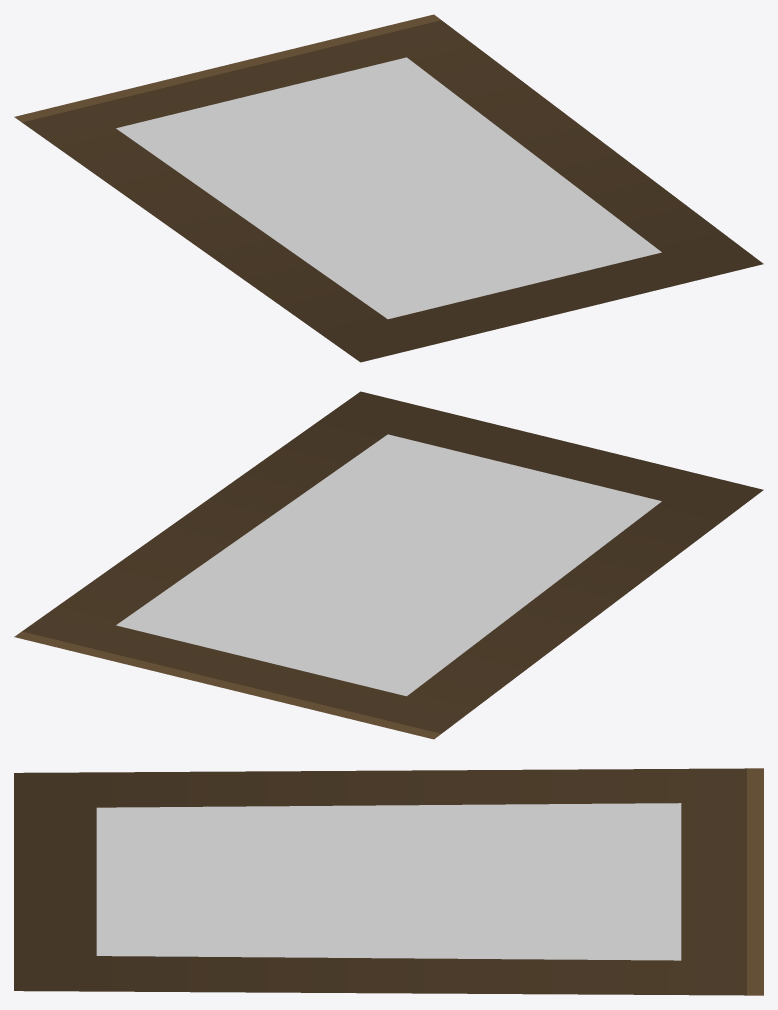
Rendered from MenuSign.fbx.
The picture shows the model from 3 angles, top to bottom: view 1: azimuth 30°, elevation 25°; view 2: azimuth 150°, elevation 25°; view 3: azimuth 270°, elevation 25°; orthographic projection. The views are drawn at different scales.
Visible parts, largest first — view 1: MenuSign; view 2: MenuSign; view 3: MenuSign.
Boxes of the visible parts, bbox=[...] form: MenuSign: bbox=[14, 14, 763, 362]; MenuSign: bbox=[14, 391, 763, 739]; MenuSign: bbox=[14, 768, 763, 995].
Bounding box in the file's own units: 48.54 × 0.0149 × 67.71.
